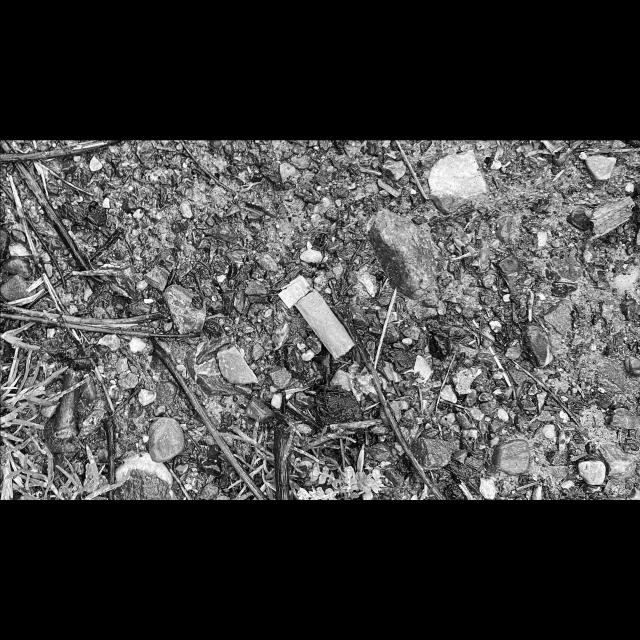cigarette: (277, 274, 355, 361)
